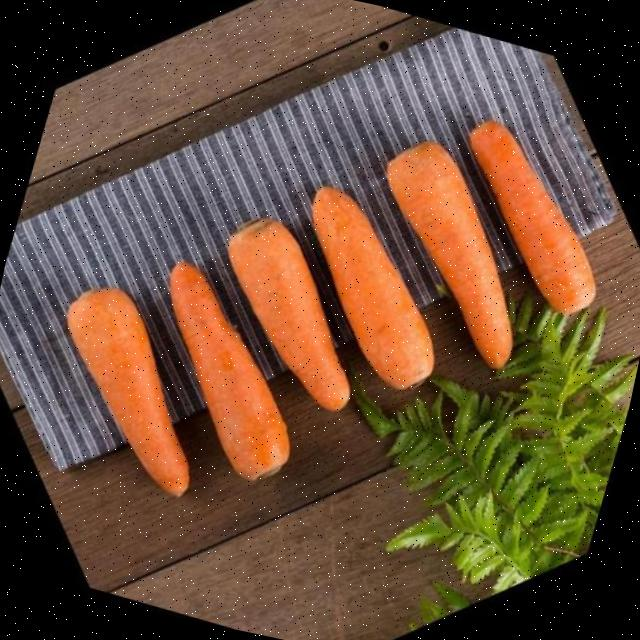carrot: (388, 142, 512, 368), (170, 263, 289, 480), (66, 288, 188, 495), (313, 188, 433, 388), (471, 121, 595, 314), (228, 218, 349, 410)
